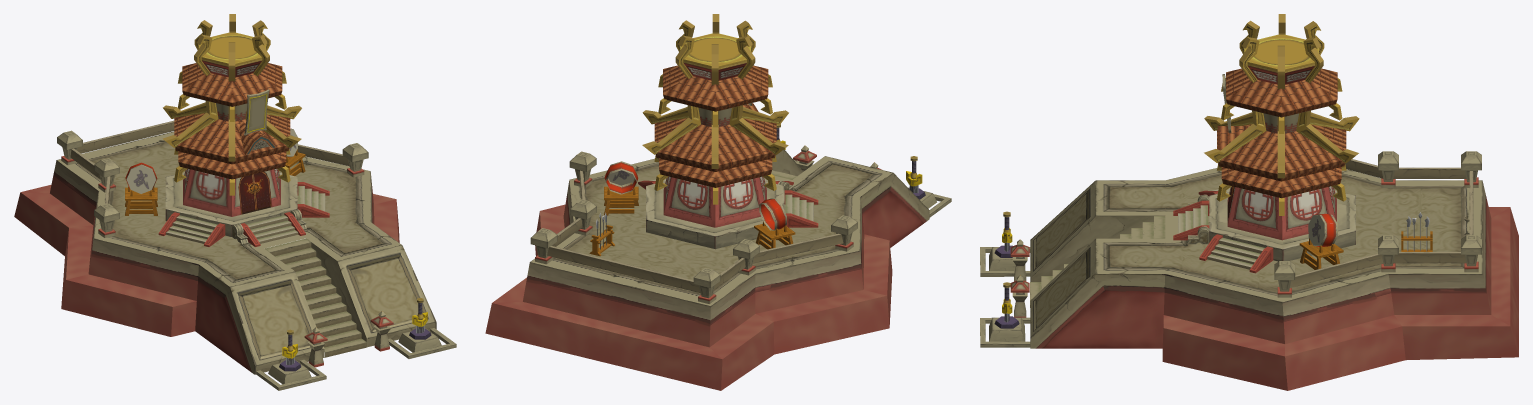
Rendered from wujiangge.FBX.
3 views of the same model, side by side, from view 1: azimuth 30°, elevation 25°; view 2: azimuth 150°, elevation 25°; view 3: azimuth 270°, elevation 25° (orthographic). The views are drawn at different scales.
Parts seen in each view (by area): view 1: wujiangge02; view 2: wujiangge02; view 3: wujiangge02.
Part boxes in pixels (left/top/right/bottom): wujiangge02: left=14, top=14, right=456, bottom=390; wujiangge02: left=485, top=14, right=951, bottom=390; wujiangge02: left=980, top=14, right=1518, bottom=390.
Size of the model in its own units: 89.12 by 111 by 61.
